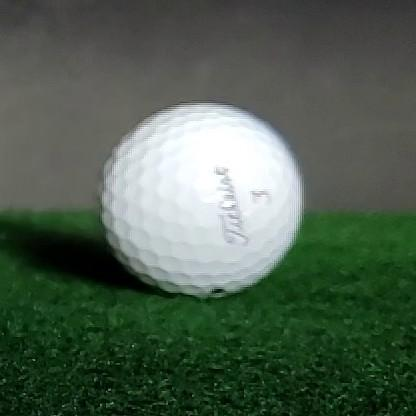golfball: (97, 104, 302, 299)
